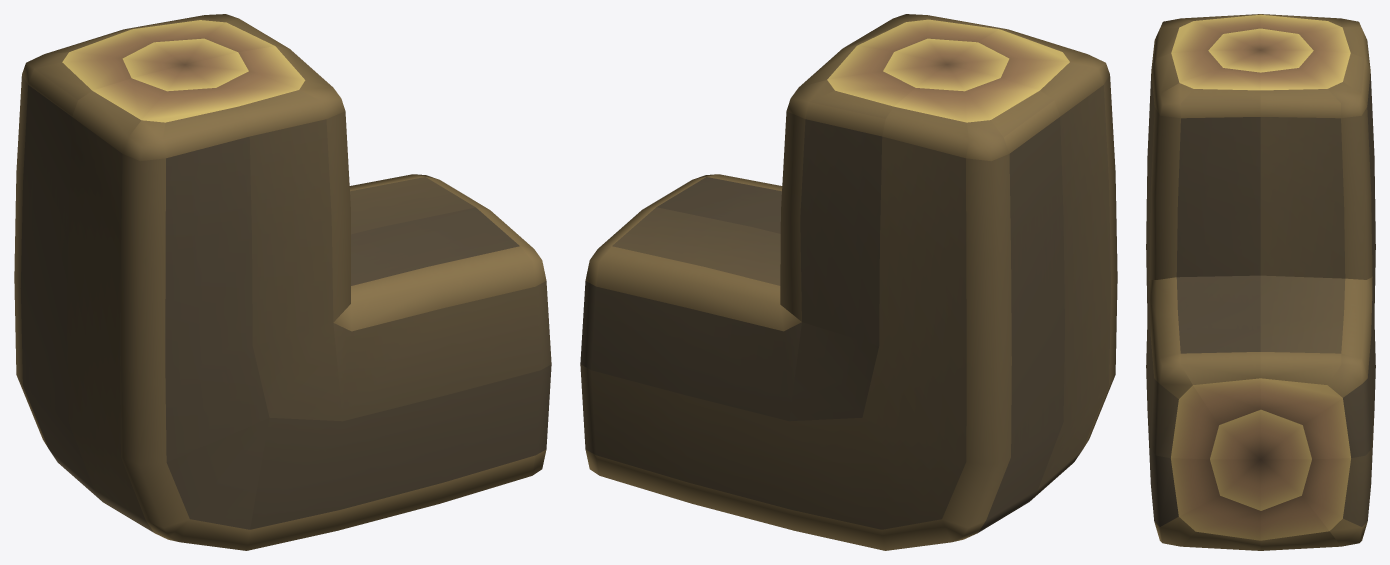
The model's file is wooden_cubes8.fbx.
3 renders of one model, left to right at view 1: azimuth 30°, elevation 25°; view 2: azimuth 150°, elevation 25°; view 3: azimuth 270°, elevation 25°, orthographic. The views are drawn at different scales.
Parts seen in each view (by area): view 1: wooden_cubes8; view 2: wooden_cubes8; view 3: wooden_cubes8.
Boxes of the visible parts, x1,y1,x2,y2 form: wooden_cubes8: (14,14,551,550); wooden_cubes8: (580,14,1117,550); wooden_cubes8: (1146,14,1375,550).
Size of the model in its own units: 10791 by 10801 by 5858.
1 material, 1 textured.
